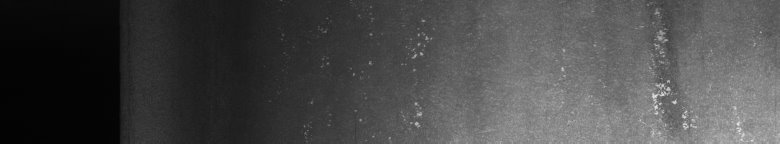hc: (652, 9, 739, 129)
